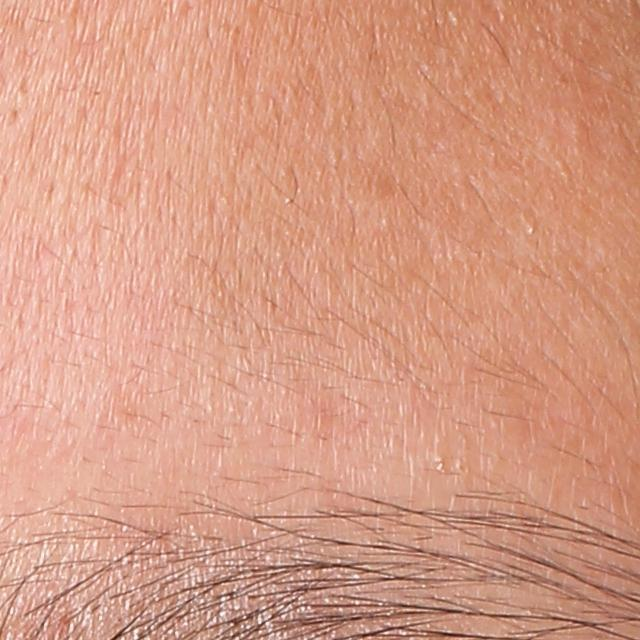comedo: (563, 114, 596, 149)
